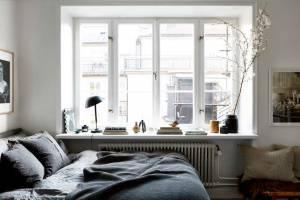window: (59, 5, 255, 136)
